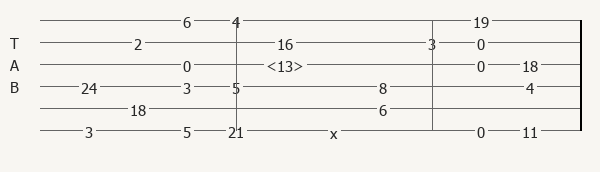0: (183, 57, 195, 72), (477, 123, 489, 138), (477, 57, 489, 72), (477, 35, 489, 50)
11: (522, 123, 542, 138)
16: (277, 35, 297, 50)
18: (130, 101, 150, 116), (522, 57, 542, 72)
19: (473, 13, 493, 28)
2: (134, 35, 146, 50)
21: (228, 123, 248, 138)
24: (81, 79, 101, 94)
3: (85, 123, 97, 138), (183, 79, 195, 94), (428, 35, 440, 50)
4: (232, 13, 244, 28), (526, 79, 538, 94)
5: (183, 123, 195, 138), (232, 79, 244, 94)
6: (183, 13, 195, 28), (379, 101, 391, 116)
8: (379, 79, 391, 94)
harmonic: (266, 57, 308, 72)
x: (330, 124, 342, 136)
